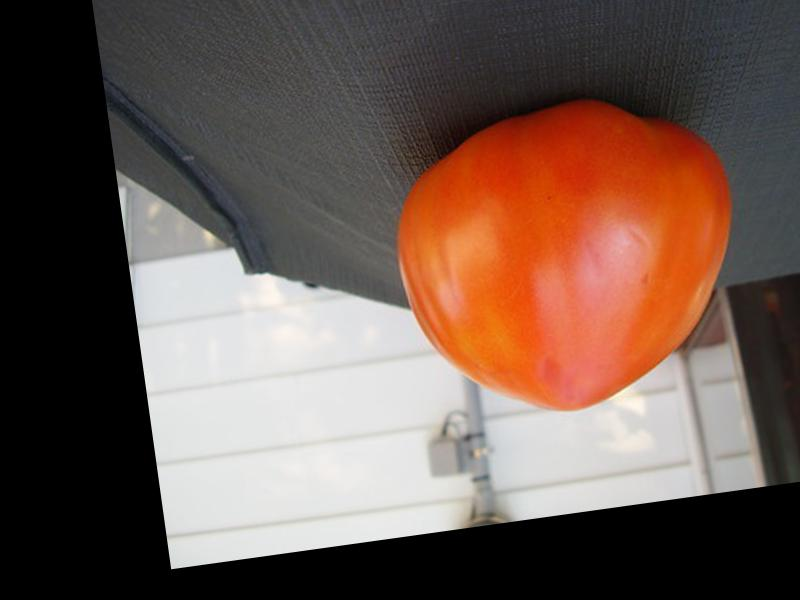Tomato: (381, 84, 757, 433)
